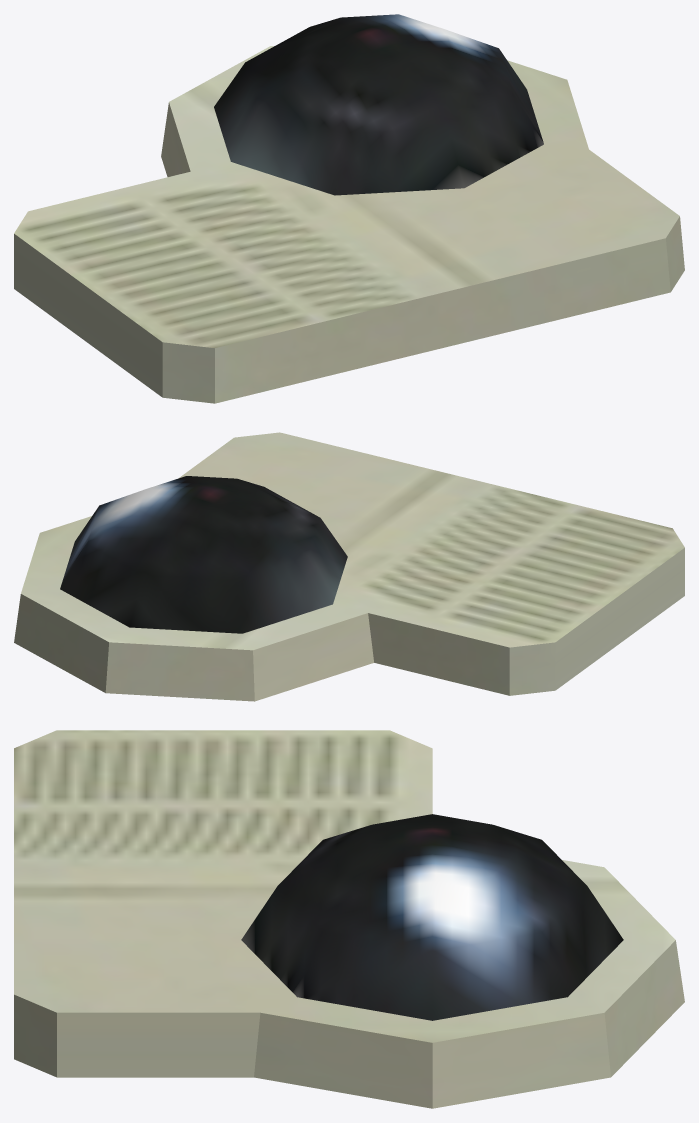
Rendered from projector.fbx.
The picture shows the model from 3 angles, top to bottom: view 1: azimuth 30°, elevation 25°; view 2: azimuth 150°, elevation 25°; view 3: azimuth 270°, elevation 25°; orthographic projection. The views are drawn at different scales.
Visible parts, largest first — view 1: Cylinder.001; view 2: Cylinder.001; view 3: Cylinder.001.
Part boxes in pixels (left/top/right/bottom): Cylinder.001: left=14, top=14, right=684, bottom=403; Cylinder.001: left=14, top=432, right=684, bottom=701; Cylinder.001: left=14, top=730, right=684, bottom=1108.
Size of the model in its own units: 308 by 276 by 76.56.
Materials: 1 (1 with a texture image).
